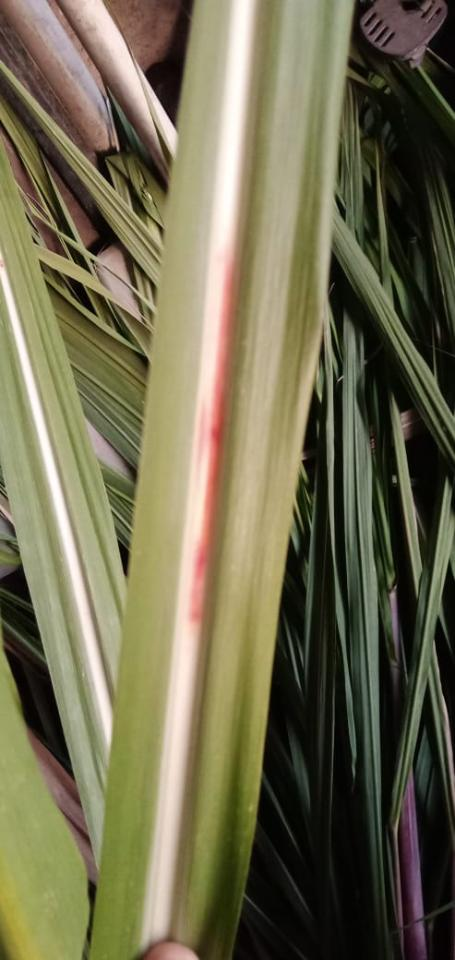RedRot: (176, 250, 240, 626)
